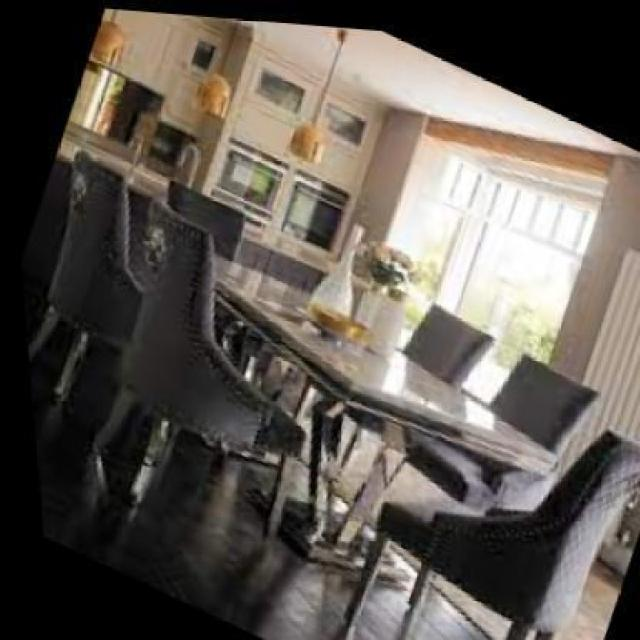tables: (211, 277, 557, 574)
